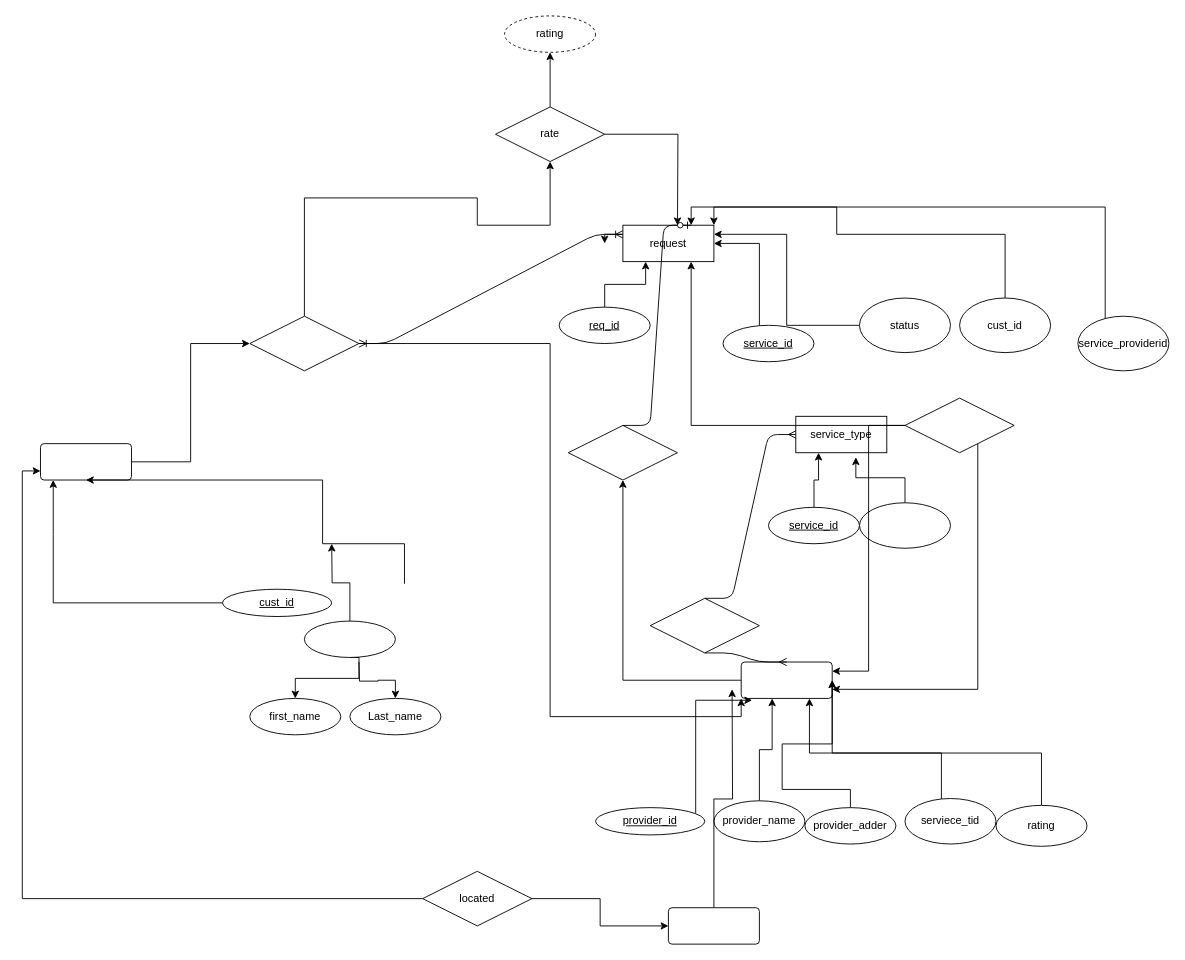
This 1185x960 diagram has some shape labels left out. The shapes that lost their labels are listed below. From the top down, each one's centre as x and y in pixels, then its label:
the point at 304,343: requests
the point at 959,425: has
the point at 85,461: cus
the point at 622,452: choose
the point at 904,525: serviece_type
the point at 349,638: cust_name
the point at 704,625: provides
the point at 786,679: serviece_provider
the point at 713,925: adder
